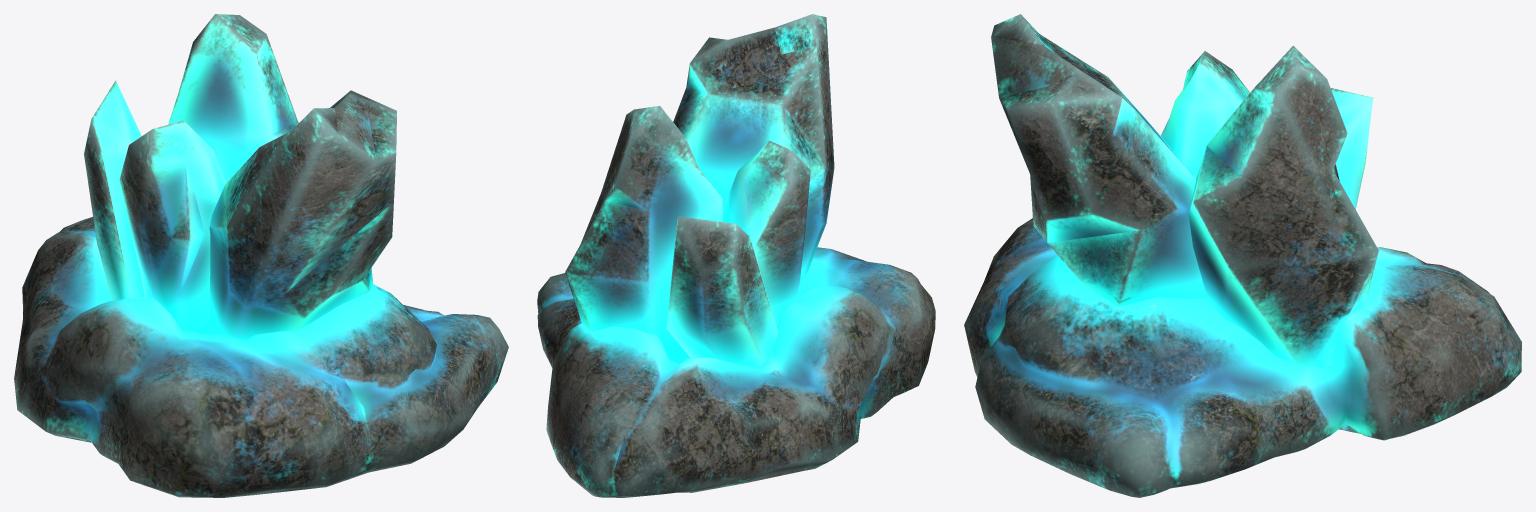
The model's file is Fantasy_crystal_stone.fbx.
3 views of the same model, side by side, from view 1: azimuth 30°, elevation 25°; view 2: azimuth 150°, elevation 25°; view 3: azimuth 270°, elevation 25° (orthographic). The views are drawn at different scales.
Parts seen in each view (by area): view 1: Crystal_stone; view 2: Crystal_stone; view 3: Crystal_stone.
Part boxes in pixels (x1,y1,x2,y2): Crystal_stone: [14, 14, 508, 497]; Crystal_stone: [537, 14, 935, 497]; Crystal_stone: [964, 14, 1521, 497].
Bounding box in the file's own units: 2884 × 2524 × 3390.
